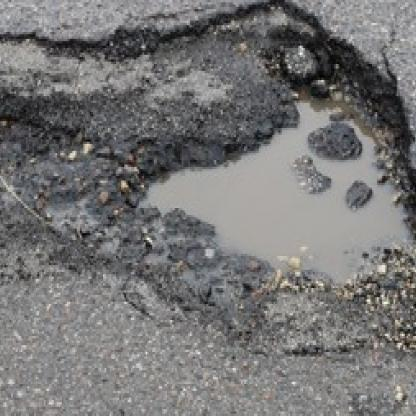pothole: (115, 16, 416, 354)
